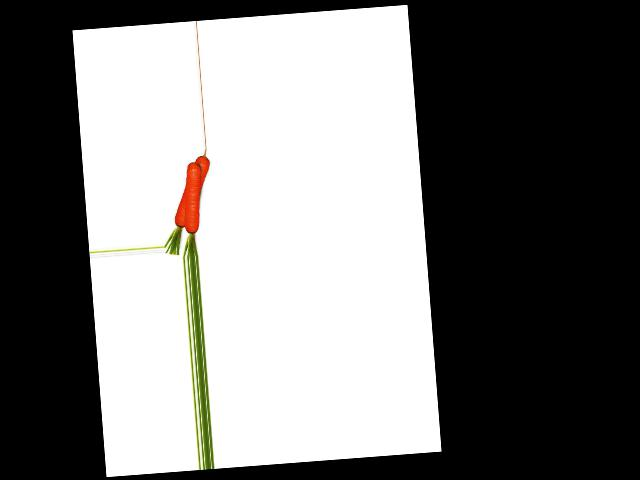carrot: (169, 149, 213, 234)
